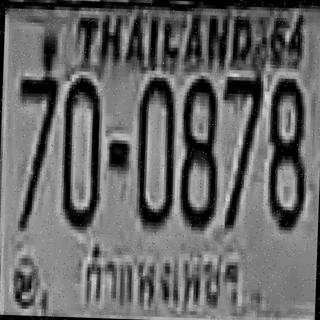N00: (59, 74, 102, 227), (134, 74, 175, 226)
N07: (219, 73, 262, 229), (13, 73, 56, 228), (220, 73, 261, 179)
N08: (264, 75, 308, 227), (178, 75, 218, 228)
P16: (74, 238, 247, 312)
